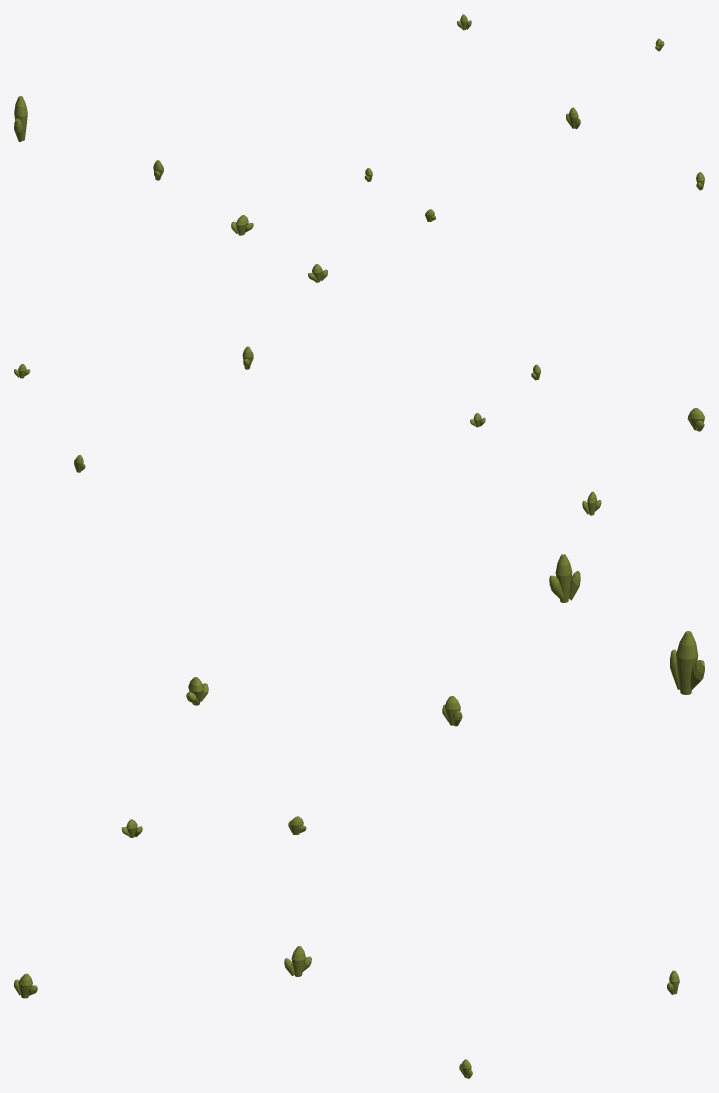
File: Rumput.fbx
3 renders of one model, top to bottom at view 1: azimuth 30°, elevation 25°; view 2: azimuth 150°, elevation 25°; view 3: azimuth 270°, elevation 25°, orthographic. The views are drawn at different scales.
Parts seen in each view (by area): view 1: Rumput; view 2: Rumput; view 3: Rumput.
Boxes of the visible parts, x1,y1,x2,y2 form: Rumput: [14, 14, 704, 235]; Rumput: [14, 264, 704, 602]; Rumput: [14, 631, 704, 1078].
Size of the model in its own units: 7951 by 551 by 5708.
